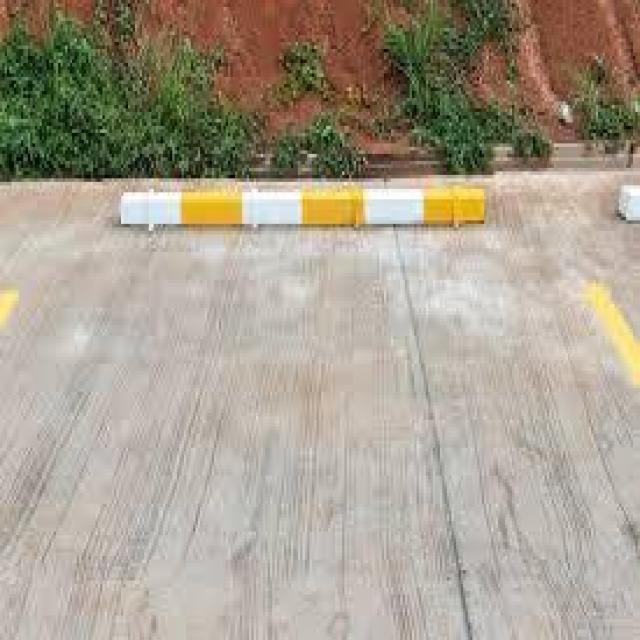curb: (121, 195, 492, 224)
